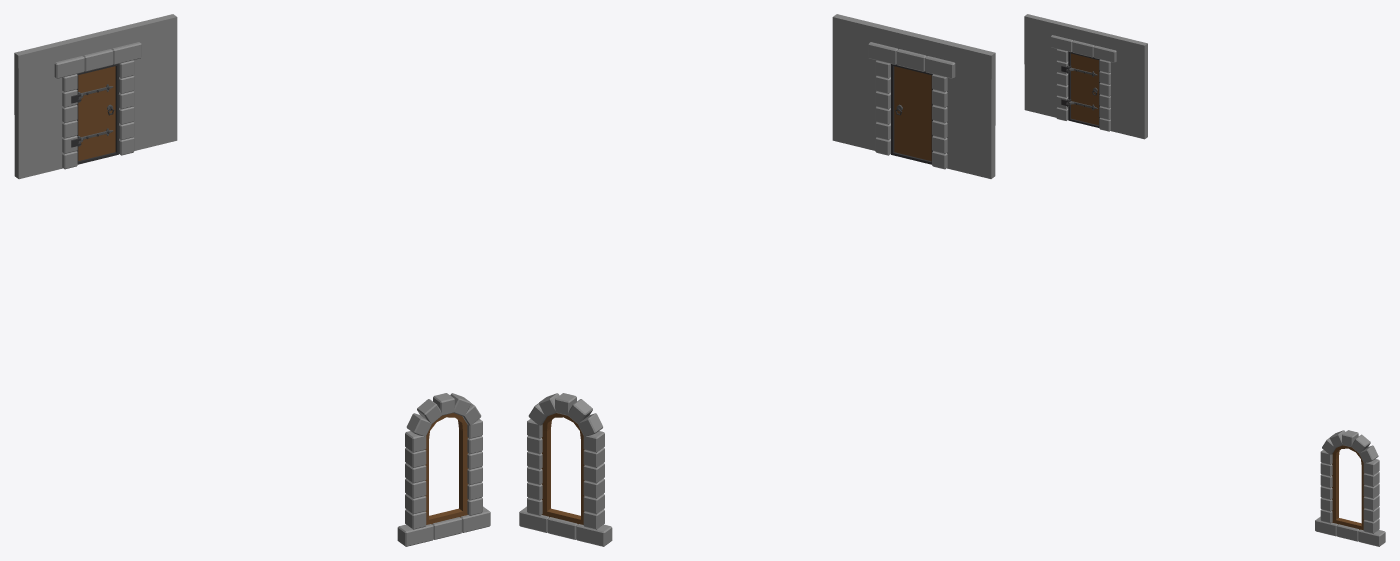
File: shadowmoneysSmallStuff.fbx
3 views of the same model, side by side, from view 1: azimuth 30°, elevation 25°; view 2: azimuth 150°, elevation 25°; view 3: azimuth 330°, elevation 25° (orthographic). The views are drawn at different scales.
Visible parts, largest first — view 1: Wall.001, SmallWindow, SmallDoorWay, SmallWoodenDoor; view 2: Wall.001, SmallWindow, SmallDoorWay, SmallWoodenDoor; view 3: Wall.001, SmallWindow, SmallDoorWay, SmallWoodenDoor.
Part boxes in pixels (left/top/right/bottom): Wall.001: left=14, top=14, right=177, bottom=179; SmallWindow: left=397, top=393, right=490, bottom=546; SmallDoorWay: left=54, top=42, right=141, bottom=169; SmallWoodenDoor: left=77, top=64, right=118, bottom=164; Wall.001: left=832, top=14, right=995, bottom=178; SmallWindow: left=519, top=393, right=612, bottom=546; SmallDoorWay: left=868, top=42, right=955, bottom=169; SmallWoodenDoor: left=891, top=64, right=932, bottom=164; Wall.001: left=1024, top=14, right=1147, bottom=139; SmallWindow: left=1315, top=430, right=1385, bottom=546; SmallDoorWay: left=1050, top=35, right=1116, bottom=131; SmallWoodenDoor: left=1067, top=51, right=1099, bottom=127.
Bounding box in the file's own units: 13427 × 15926 × 435.
